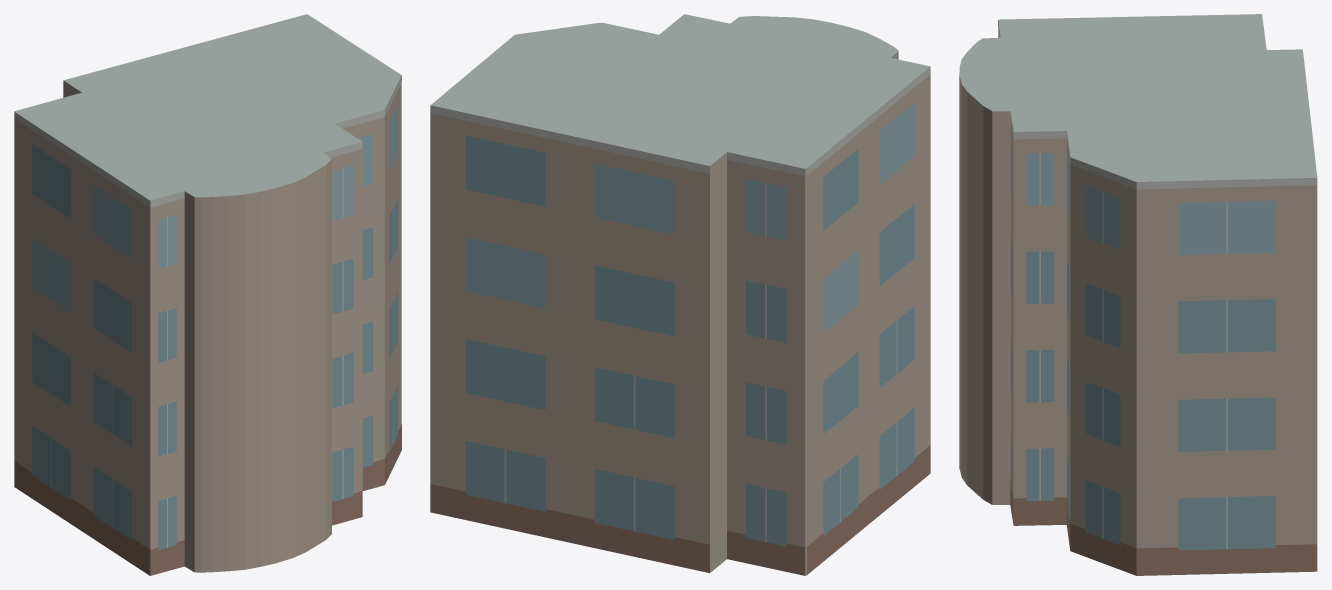
File: survey-upis-32613354.glb
3 views of the same model, side by side, from view 1: azimuth 30°, elevation 25°; view 2: azimuth 150°, elevation 25°; view 3: azimuth 270°, elevation 25° (orthographic). The views are drawn at different scales.
Parts seen in each view (by area): view 1: survey-upis-32613354.tmp; view 2: survey-upis-32613354.tmp; view 3: survey-upis-32613354.tmp.
Part boxes in pixels (bbox=[...]): survey-upis-32613354.tmp: bbox=[14, 14, 401, 575]; survey-upis-32613354.tmp: bbox=[430, 14, 930, 575]; survey-upis-32613354.tmp: bbox=[959, 14, 1317, 575].
Bounding box in the file's own units: 11.91 × 13 × 10.72.
